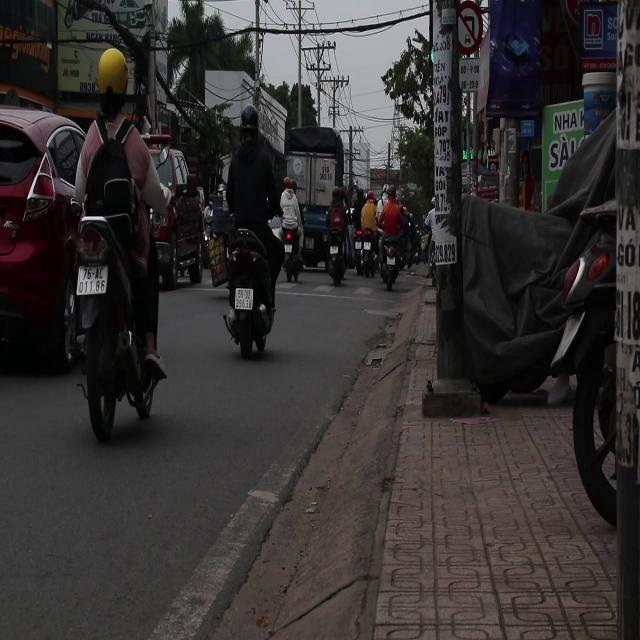car: (1, 101, 90, 378), (149, 149, 205, 290)
motorbike: (68, 102, 170, 429), (221, 219, 278, 358), (323, 200, 354, 286), (279, 180, 304, 279), (378, 231, 404, 292), (356, 225, 379, 280)
truck: (284, 126, 344, 237)
